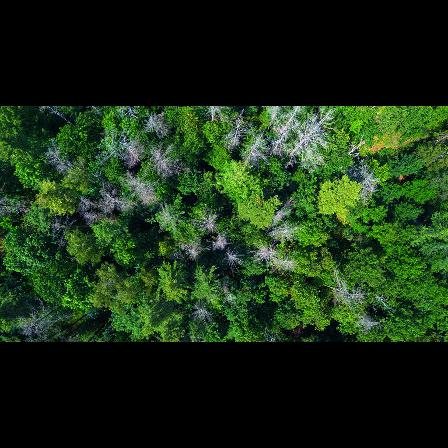Dead: (102, 134, 146, 167), (323, 277, 368, 309), (300, 112, 341, 147), (20, 303, 63, 336), (40, 138, 75, 177), (347, 162, 378, 206), (149, 148, 193, 177), (124, 171, 158, 208), (80, 187, 128, 212), (42, 316, 90, 341), (266, 195, 300, 223), (47, 216, 84, 240), (283, 132, 310, 164), (239, 132, 266, 163), (144, 111, 171, 141), (355, 313, 392, 333), (269, 129, 294, 158), (42, 106, 74, 128), (266, 226, 307, 243), (83, 210, 124, 227), (342, 136, 370, 158), (278, 106, 299, 135), (260, 110, 278, 142), (178, 240, 205, 261), (204, 230, 231, 251), (227, 115, 243, 150), (185, 303, 212, 322), (224, 248, 245, 271), (270, 256, 299, 272), (200, 210, 217, 233), (250, 244, 276, 259)
